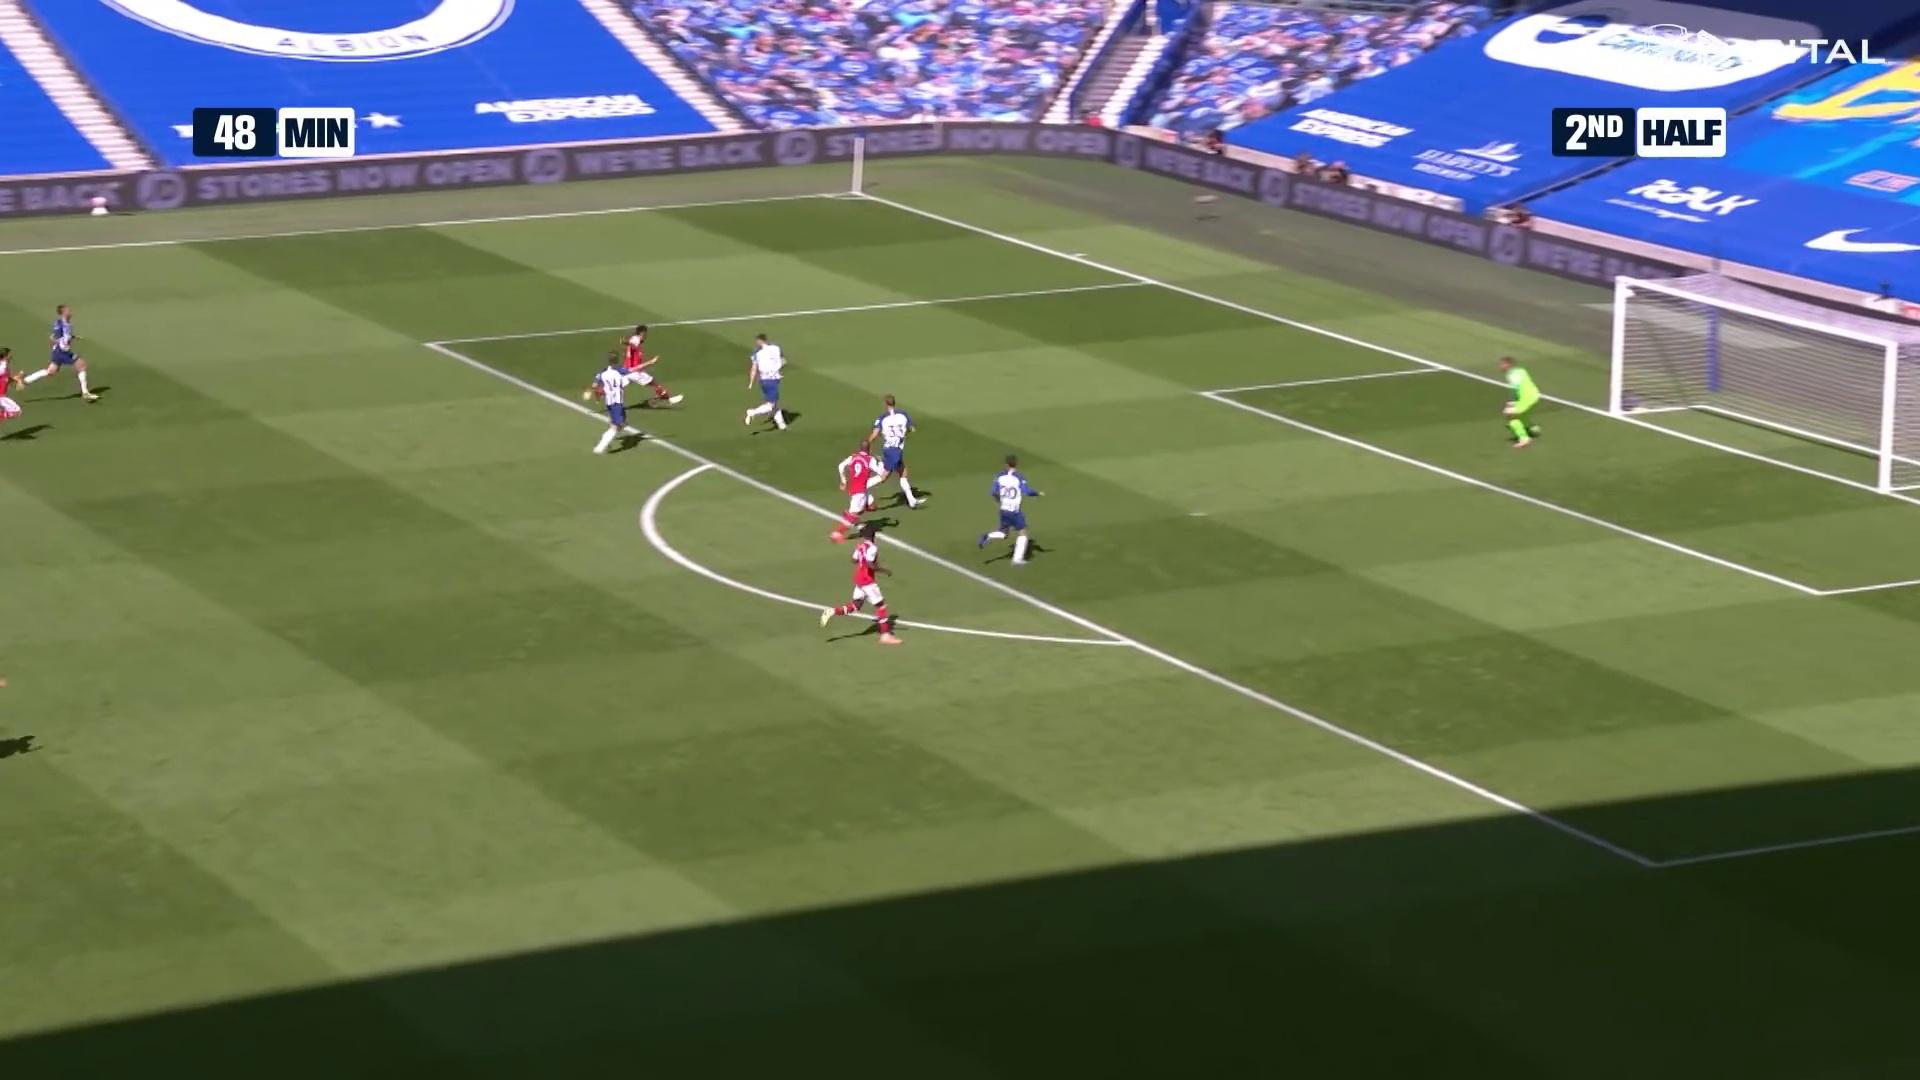ball: (85, 193, 112, 211), (1620, 285, 1638, 308)
goalkeeper: (1492, 354, 1546, 453)
player: (818, 527, 902, 648), (19, 302, 106, 406), (976, 449, 1045, 569), (863, 392, 926, 513), (829, 434, 886, 546), (588, 350, 646, 460), (613, 324, 683, 415), (738, 329, 794, 437), (0, 342, 29, 451)
